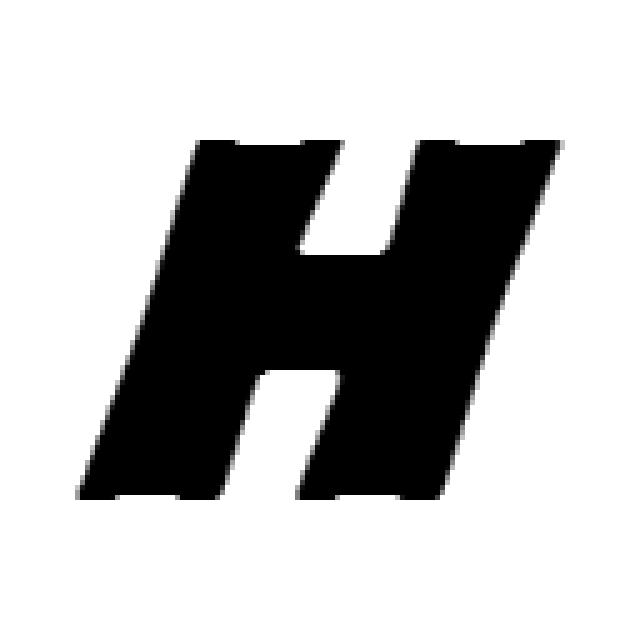H: (75, 140, 560, 505)
